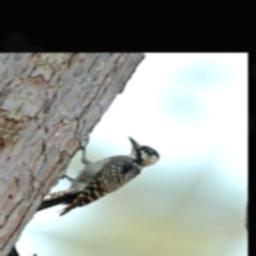Woodpecker: (25, 123, 169, 235)
